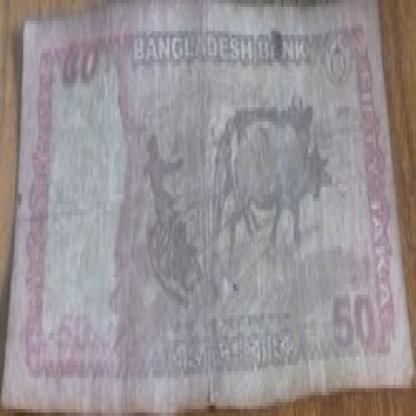Fifty taka: (55, 38, 143, 146), (330, 284, 391, 361)
